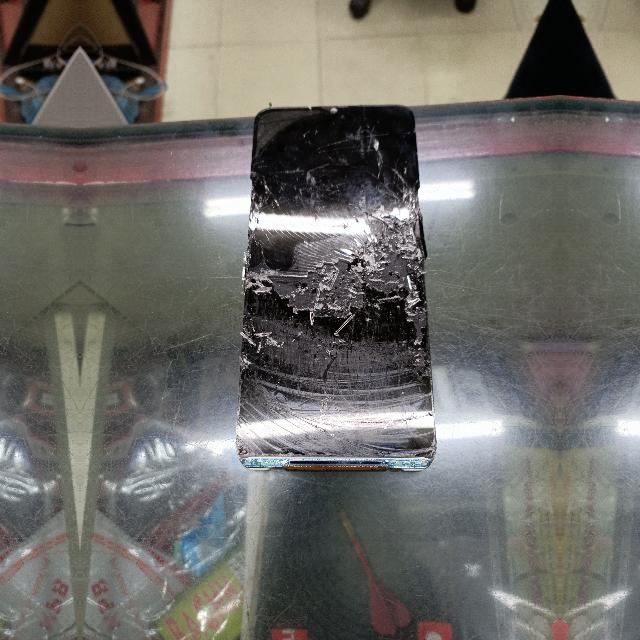phone_screen: (237, 107, 435, 469)
